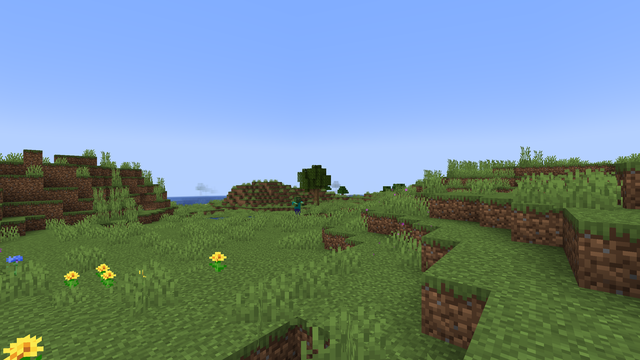zombies: (293, 197, 301, 218)
